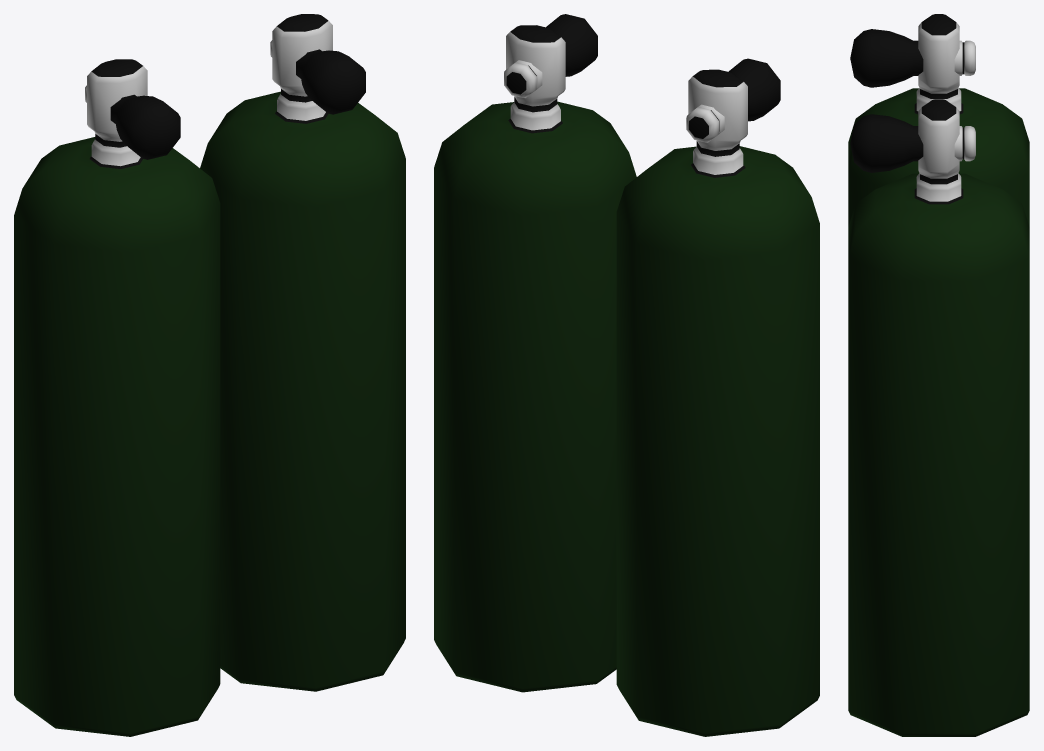
File: scubatanks.obj
The picture shows the model from 3 angles, left to right: view 1: azimuth 30°, elevation 25°; view 2: azimuth 150°, elevation 25°; view 3: azimuth 270°, elevation 25°; orthographic projection. The views are drawn at different scales.
Visible parts, largest first — view 1: 0, 2, 1; view 2: 0, 1, 2; view 3: 0, 2, 1.
Boxes of the visible parts, box(x1,y1,x2,y2) form: 0: box(14, 91, 405, 736); 2: box(89, 14, 365, 168); 1: box(85, 20, 332, 166); 0: box(434, 101, 819, 736); 1: box(504, 32, 747, 174); 2: box(506, 14, 780, 177); 0: box(848, 88, 1029, 736); 2: box(850, 14, 964, 204); 1: box(916, 22, 975, 201).
Size of the model in its own units: 0.3599 by 0.6168 by 0.1703.
